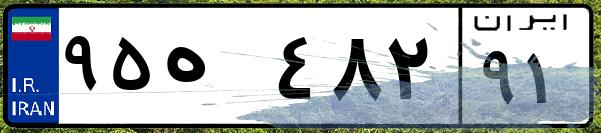1: (525, 38, 570, 115)
2: (385, 28, 445, 110)
4: (270, 28, 330, 110)
5: (110, 28, 158, 98)
8: (330, 28, 385, 110)
9: (57, 26, 110, 100), (475, 38, 525, 113)
ه: (158, 20, 270, 120)
